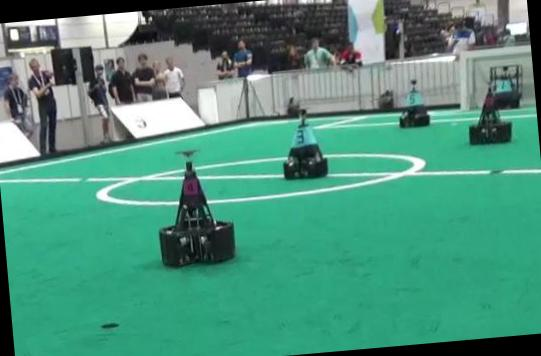blue_shirt: (398, 79, 429, 126)
goal: (458, 50, 468, 110)
robot: (159, 151, 235, 266), (283, 109, 327, 177), (469, 88, 511, 144), (488, 66, 522, 108), (398, 85, 429, 126)
